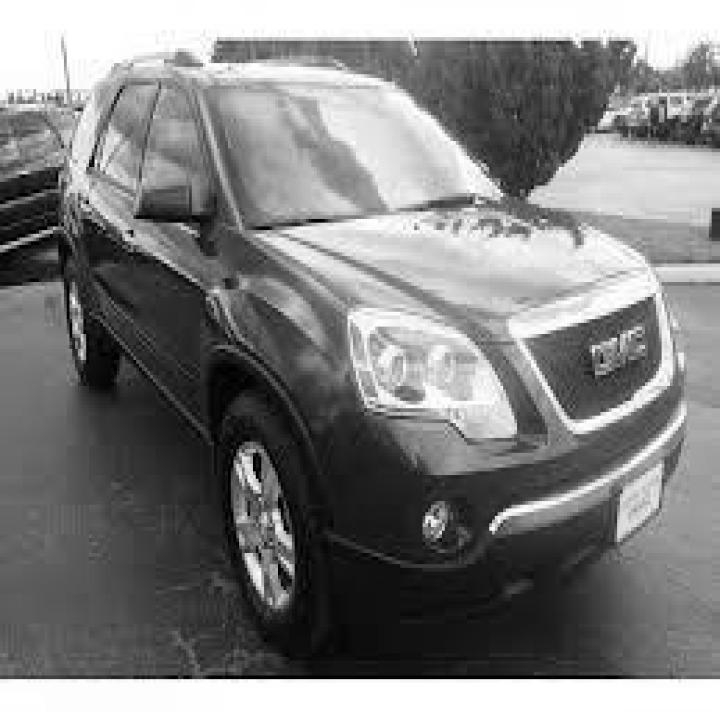car: (52, 44, 686, 657), (0, 100, 81, 271)
